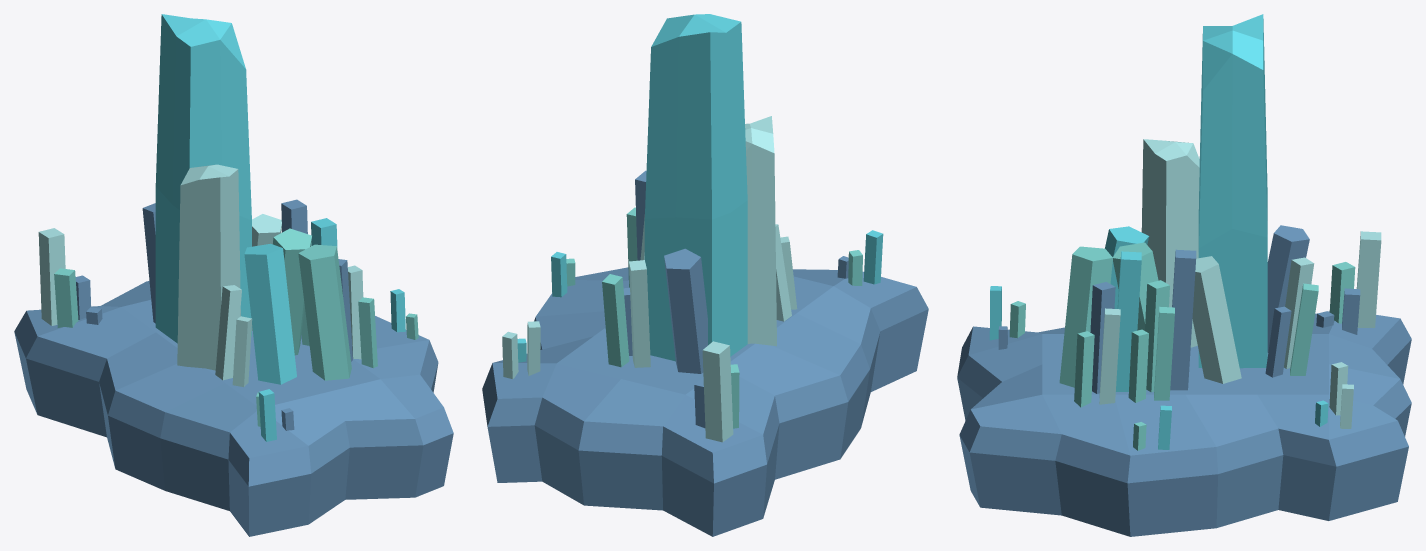
The model's file is Mushroom_Mineral_Large_01.fbx.
The picture shows the model from 3 angles, left to right: view 1: azimuth 30°, elevation 25°; view 2: azimuth 150°, elevation 25°; view 3: azimuth 270°, elevation 25°; orthographic projection. The views are drawn at different scales.
Visible parts, largest first — view 1: Mineral_Large_01; view 2: Mineral_Large_01; view 3: Mineral_Large_01.
Boxes of the visible parts, <box> form: Mineral_Large_01: <box>14,14,453,536</box>; Mineral_Large_01: <box>482,14,928,536</box>; Mineral_Large_01: <box>957,14,1411,536</box>.
Bounding box in the file's own units: 236 × 301 × 295.
